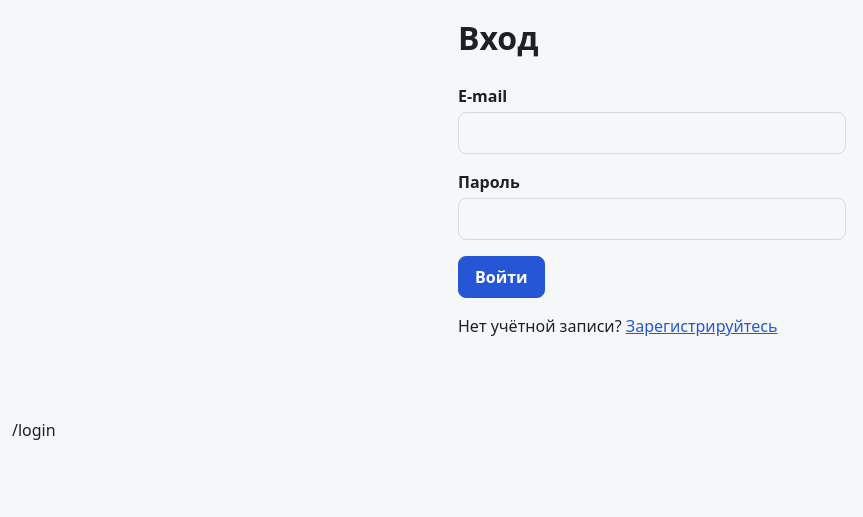
it: вход › invalid_credentials: сообщение над формой
Expected: the heading "Вход" is shown, [458,16,538,59]
Type "ivan@example.com" into the field labelled "E-mail" at (652, 133), box [458,112,846,154]
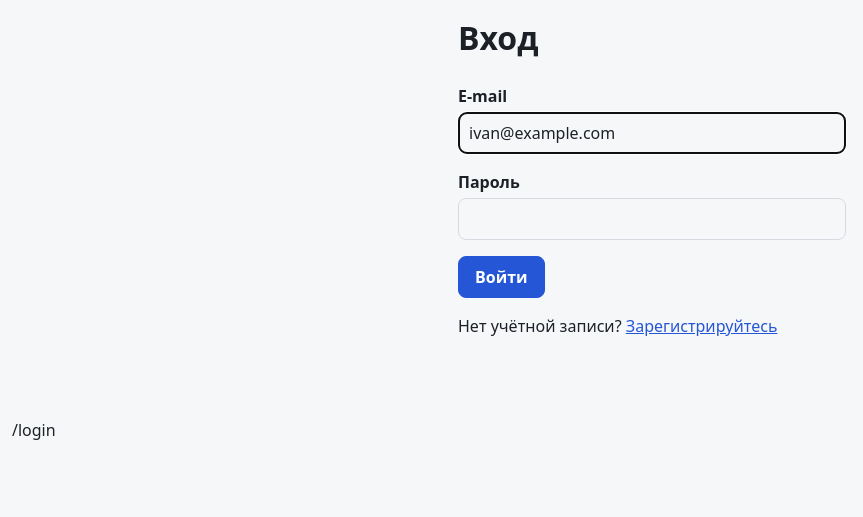
Type "wrong-password" into the password field labelled "Пароль" at (652, 219), box [458,198,846,240]
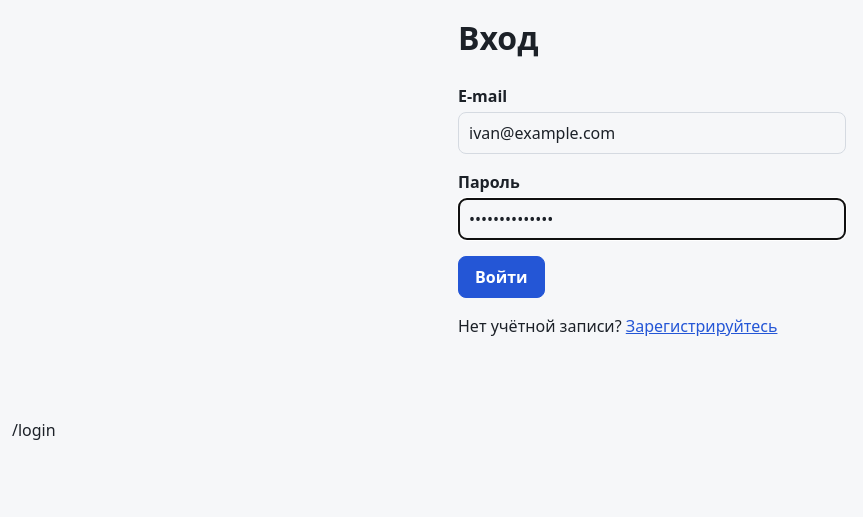
Click the button "Войти" at (501, 277), box [458,256,544,298]
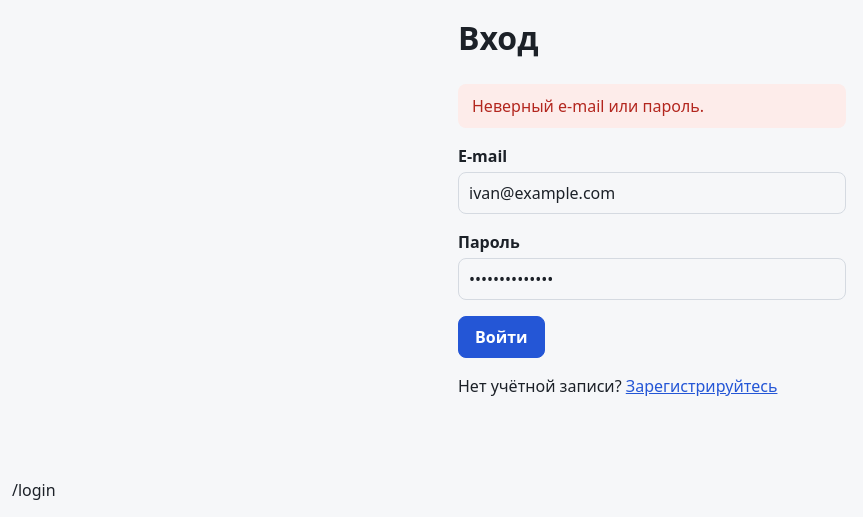
Expected: the text with test id "location" reads "/login", [12,479,56,501]
Now the message reads "Неверный e-mail или пароль.", box [472,95,704,117]
